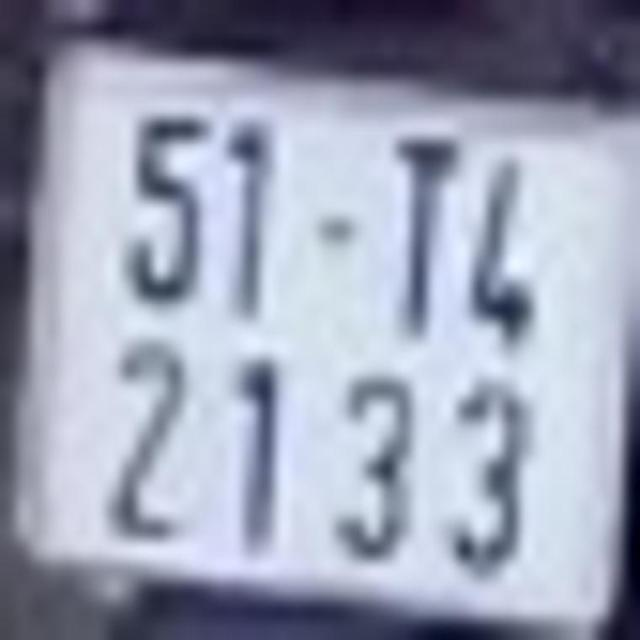1: (222, 350, 286, 555), (222, 114, 276, 320)
2: (108, 335, 188, 542)
3: (448, 371, 528, 578), (334, 365, 415, 564)
4: (470, 148, 541, 351)
5: (126, 110, 212, 305)
T: (388, 132, 462, 341)
